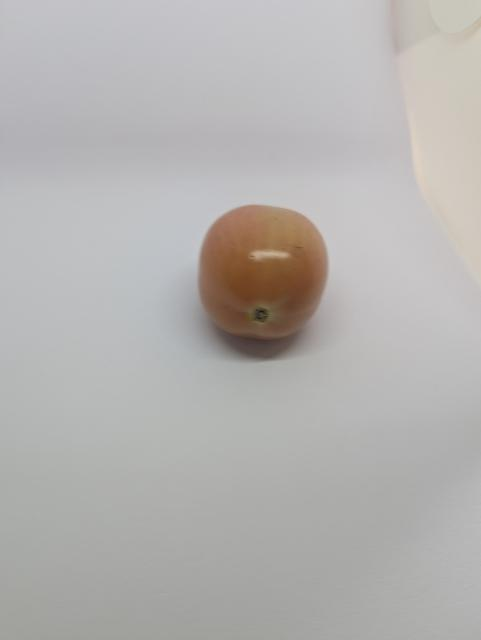turning: (192, 190, 336, 349)
